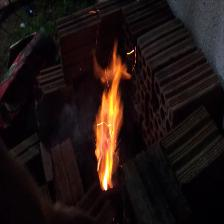fire: (70, 35, 151, 196)
